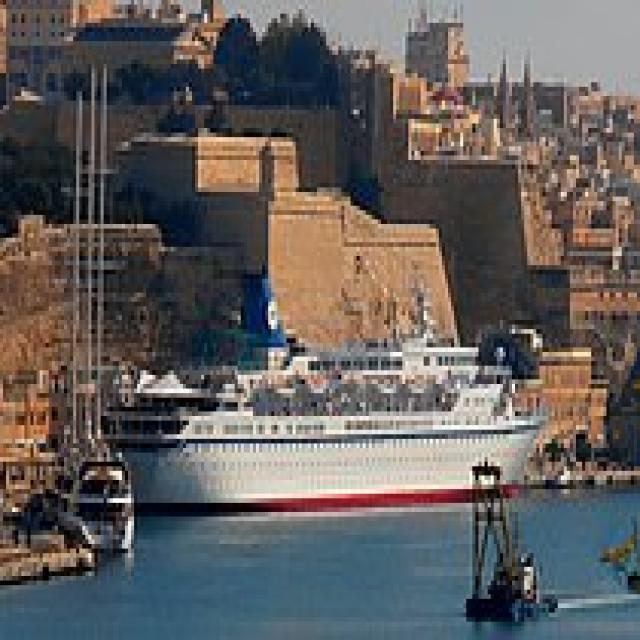Ship: (99, 317, 556, 523)
